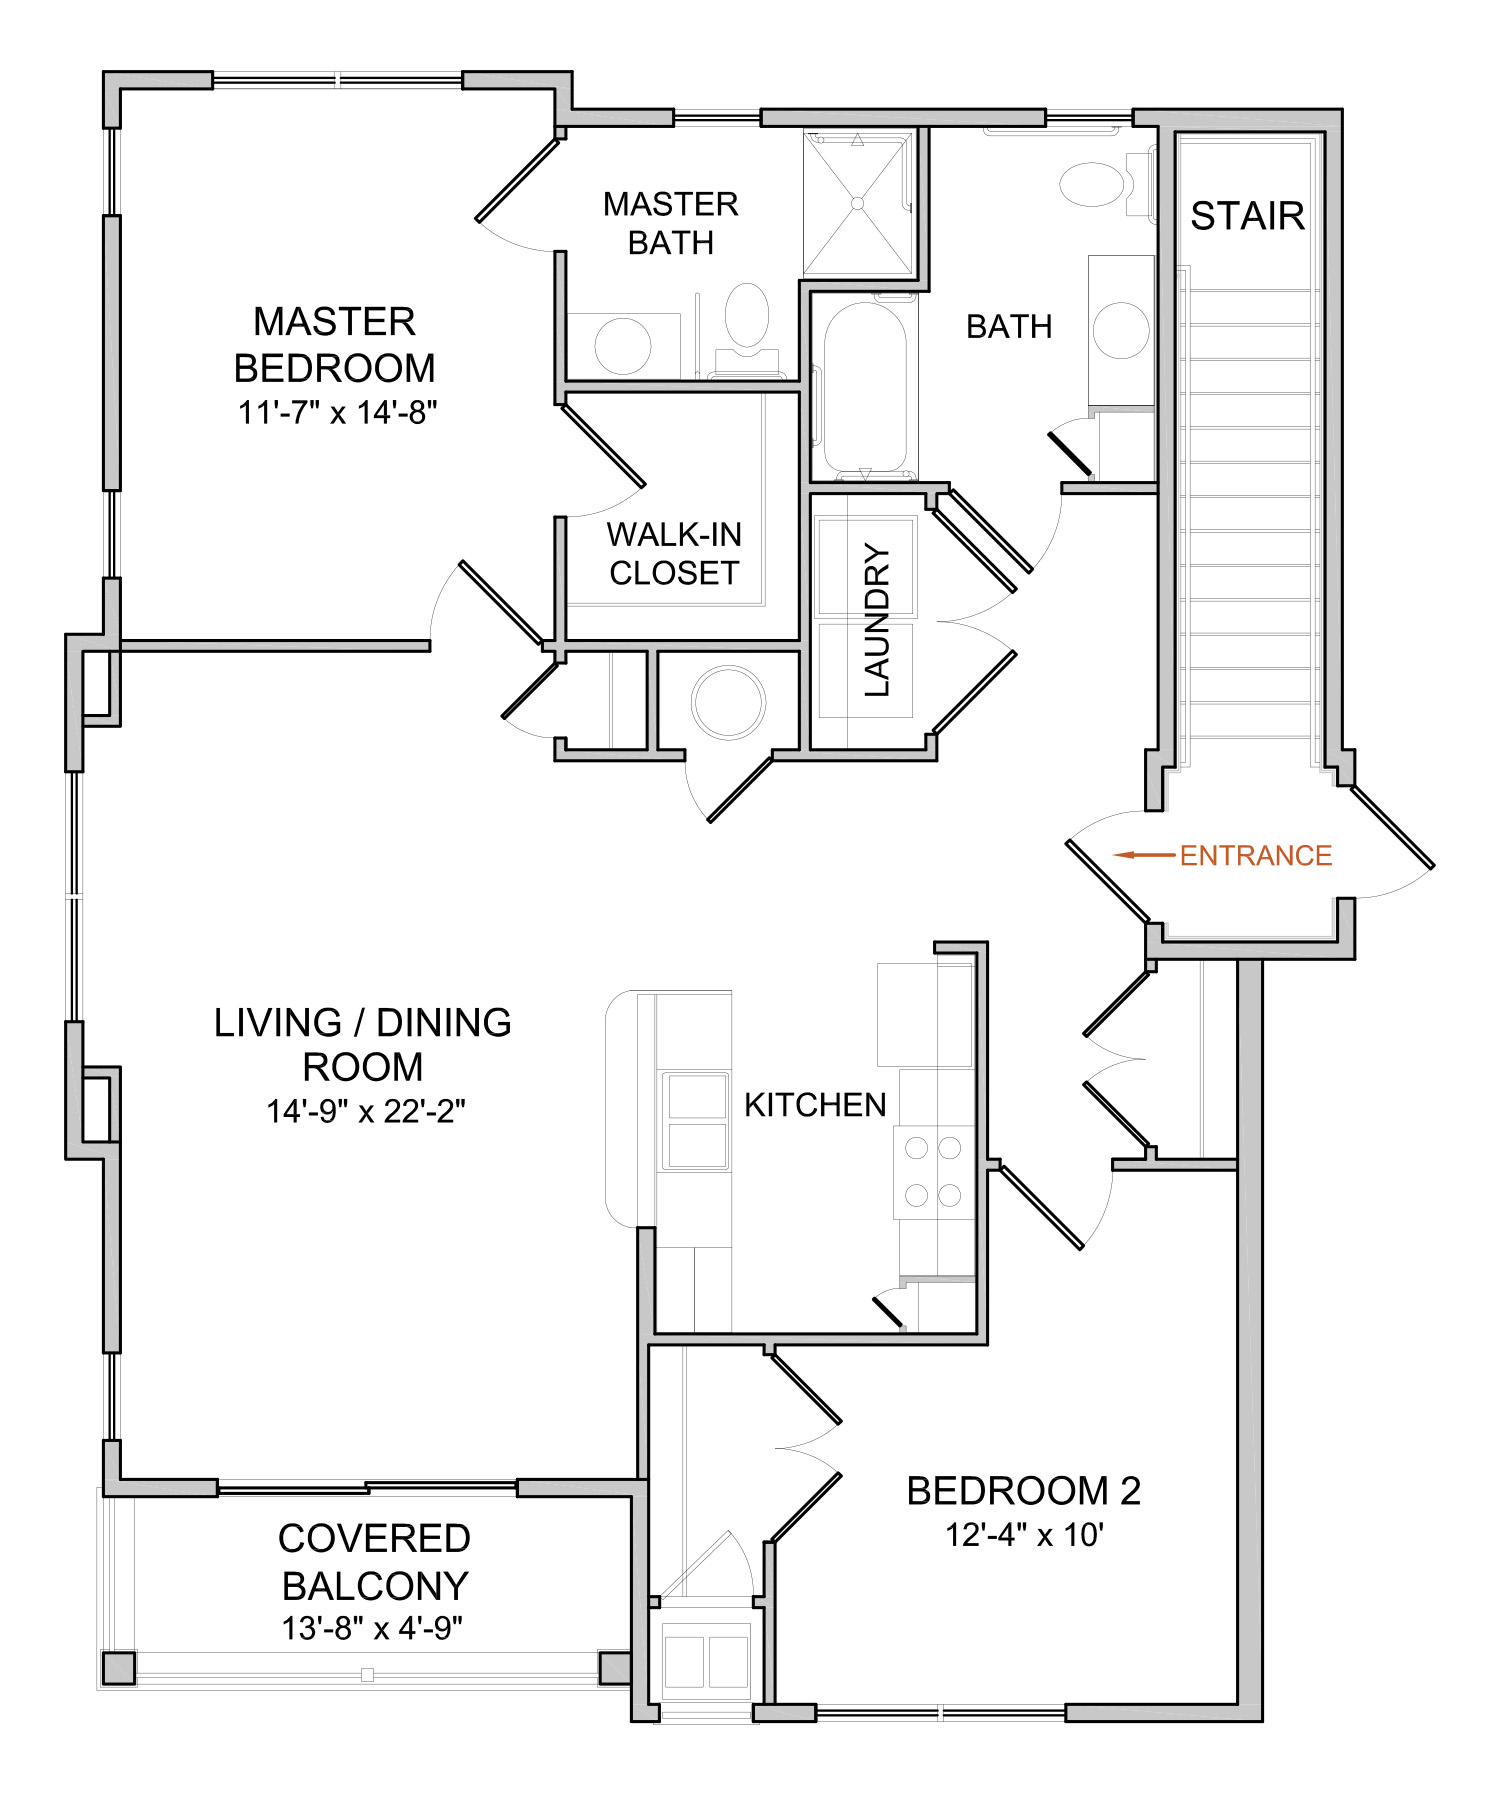room: (64, 637, 655, 1498), (106, 63, 576, 649), (766, 1374, 1269, 1723), (634, 930, 991, 1345), (799, 484, 1174, 760), (808, 280, 1168, 493), (555, 106, 820, 394)
